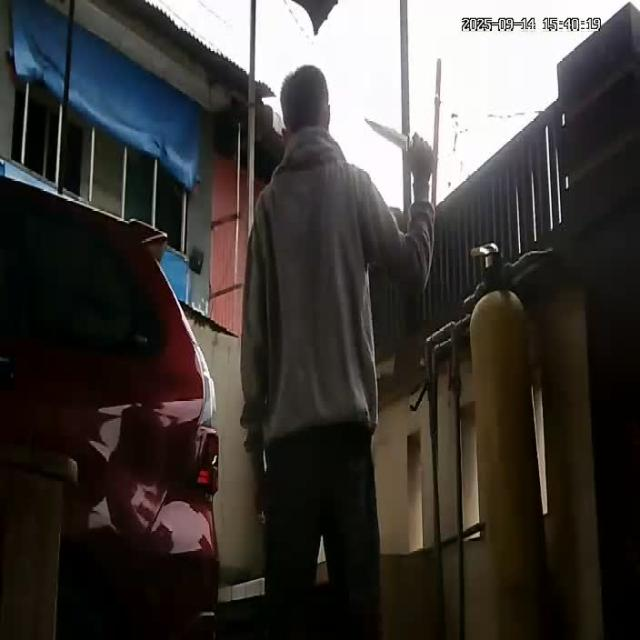senjata_tajam: (364, 115, 411, 154)
